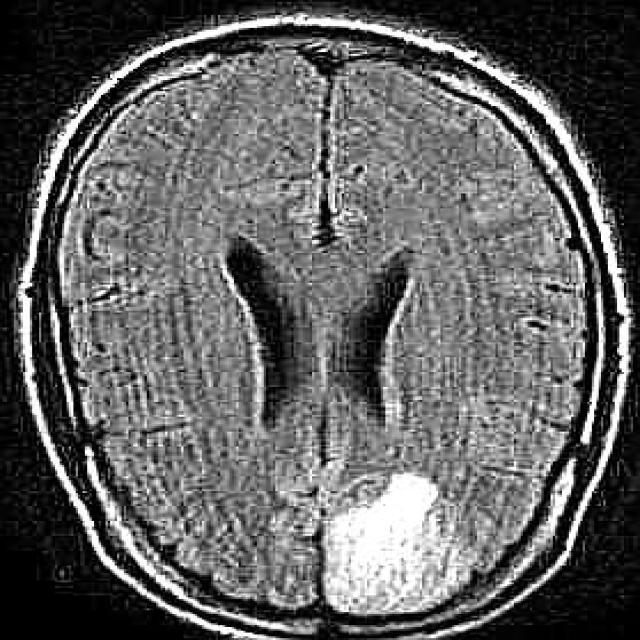Tumor-Cell: (322, 478, 456, 600)
